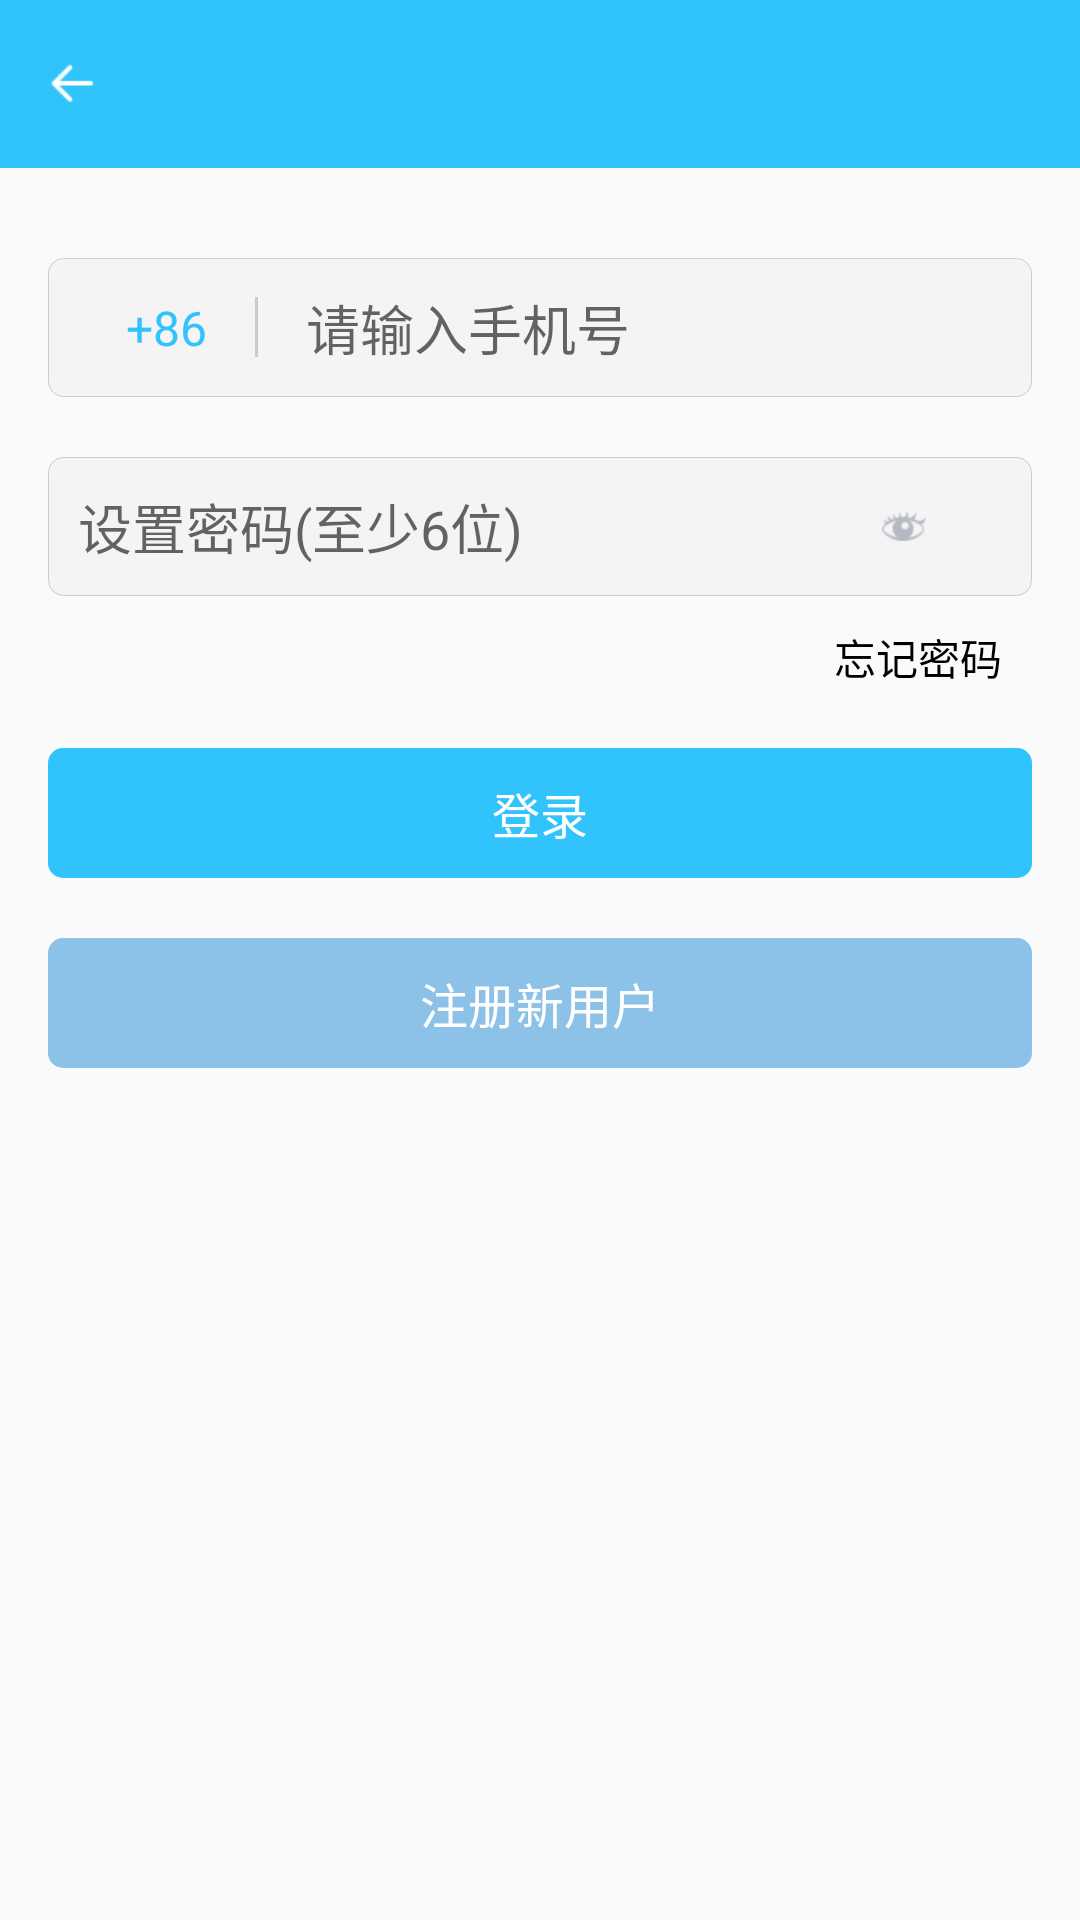

Named icons in this screenshot (1080*1920) and their centers, [x,y]:
back: [72,83]
password hide: [904,526]
